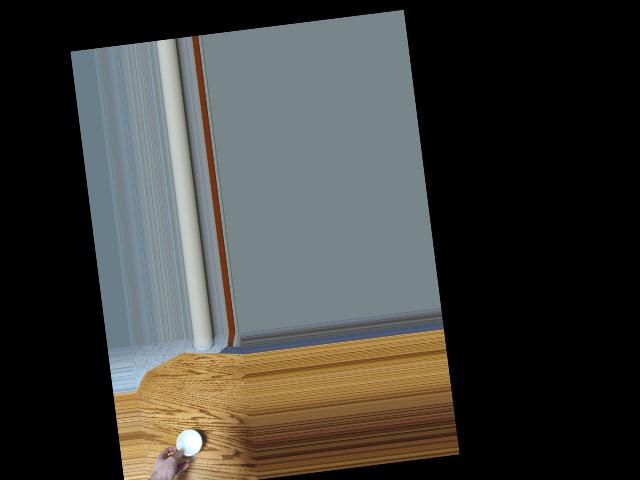cotage: (171, 427, 205, 457)
